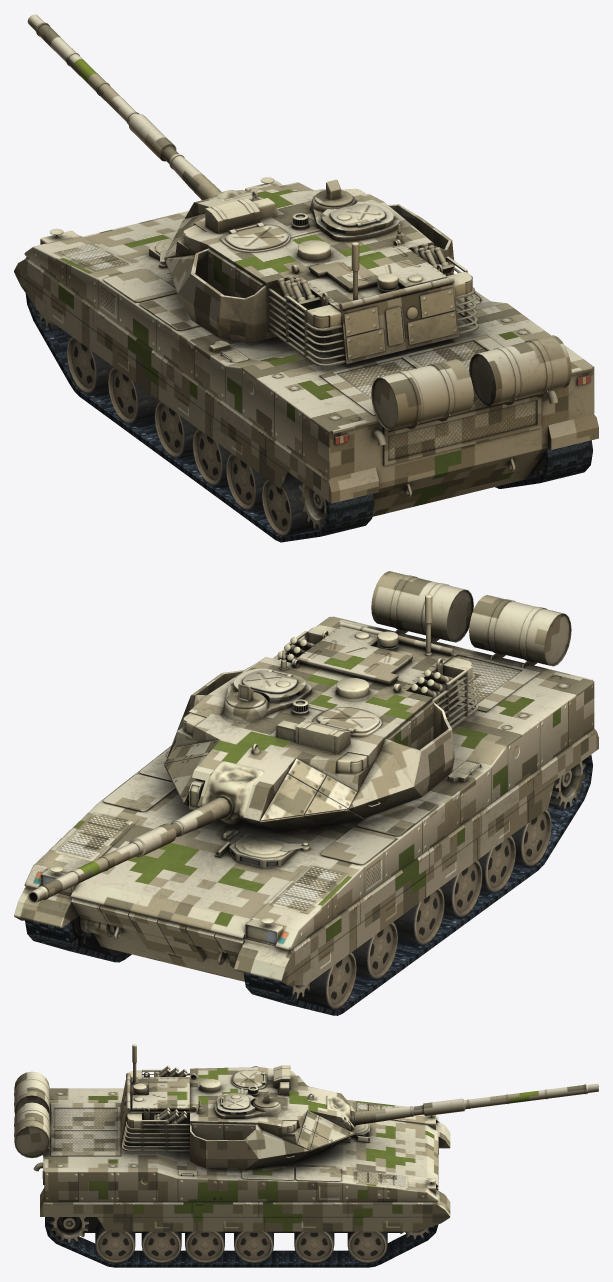
The model's file is A03_15QXTK.glb.
3 views of the same model, one above another, from view 1: azimuth 30°, elevation 25°; view 2: azimuth 150°, elevation 25°; view 3: azimuth 270°, elevation 25° (orthographic). The views are drawn at different scales.
Parts seen in each view (by area): view 1: A03Z1501; view 2: A03Z1501; view 3: A03Z1501.
Part boxes in pixels (box(x1,y1,x2,y2)): A03Z1501: box(14, 14, 598, 542); A03Z1501: box(14, 571, 598, 1015); A03Z1501: box(14, 1044, 598, 1267).
Bounding box in the file's own units: 4.01 × 3.76 × 11.75.
4 materials, 4 textured.
